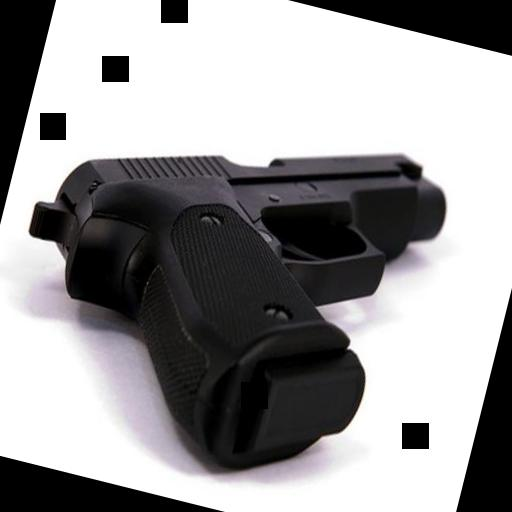Handgun: (0, 66, 458, 494)
